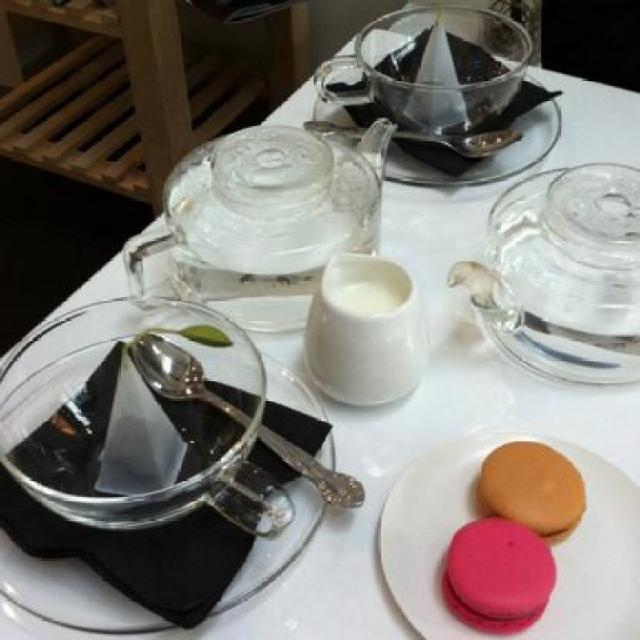Macaron: (440, 435, 603, 639)
